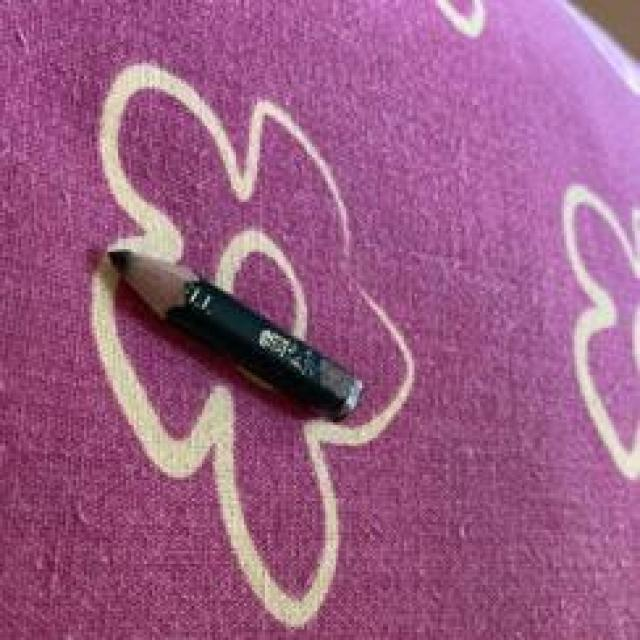pencil: (105, 247, 365, 422)
